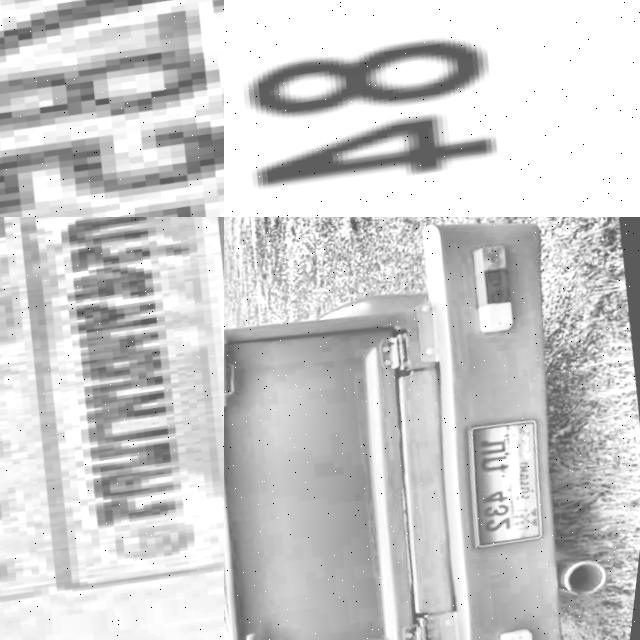license-plate: (0, 217, 224, 640), (224, 0, 640, 217), (0, 0, 224, 217), (460, 405, 565, 544)
